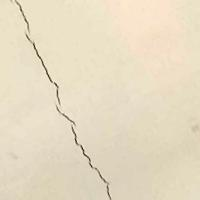crack: (12, 0, 111, 199)
